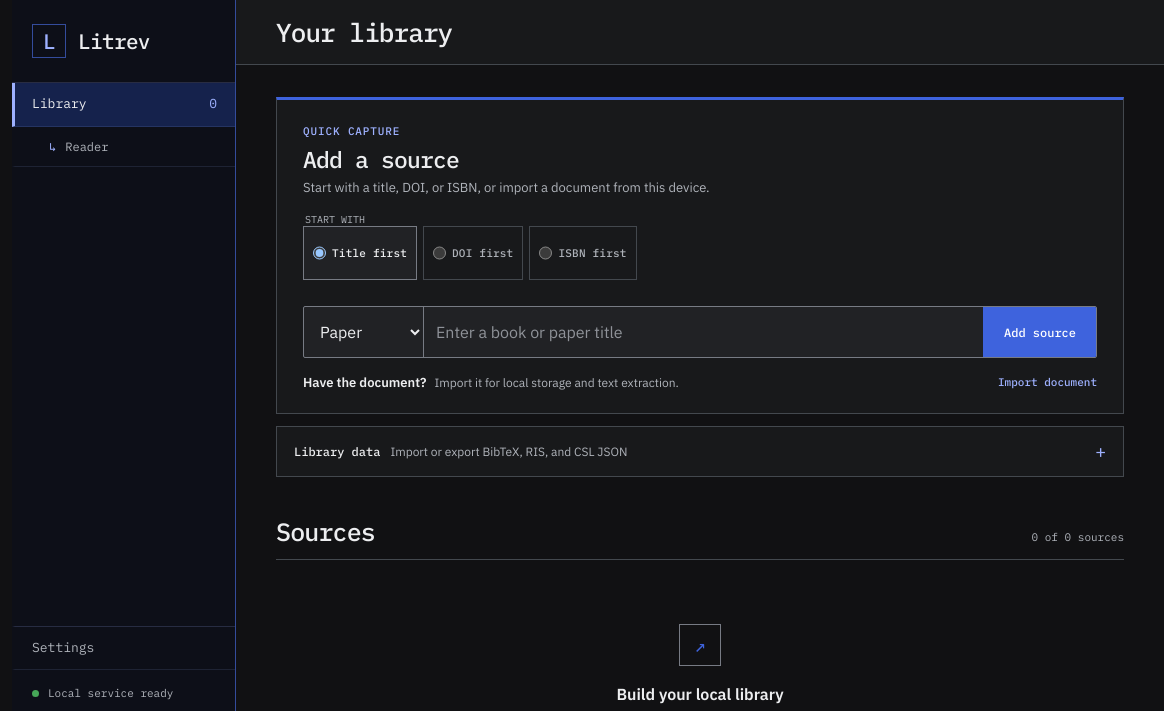
Test: keeps the title and explains when a source cannot be saved
Expected: the text "Local service ready" is shown, [32,686,173,700]
Type "A useful paper" into the field labelled "title" at (704, 332), box [424,307,983,357]
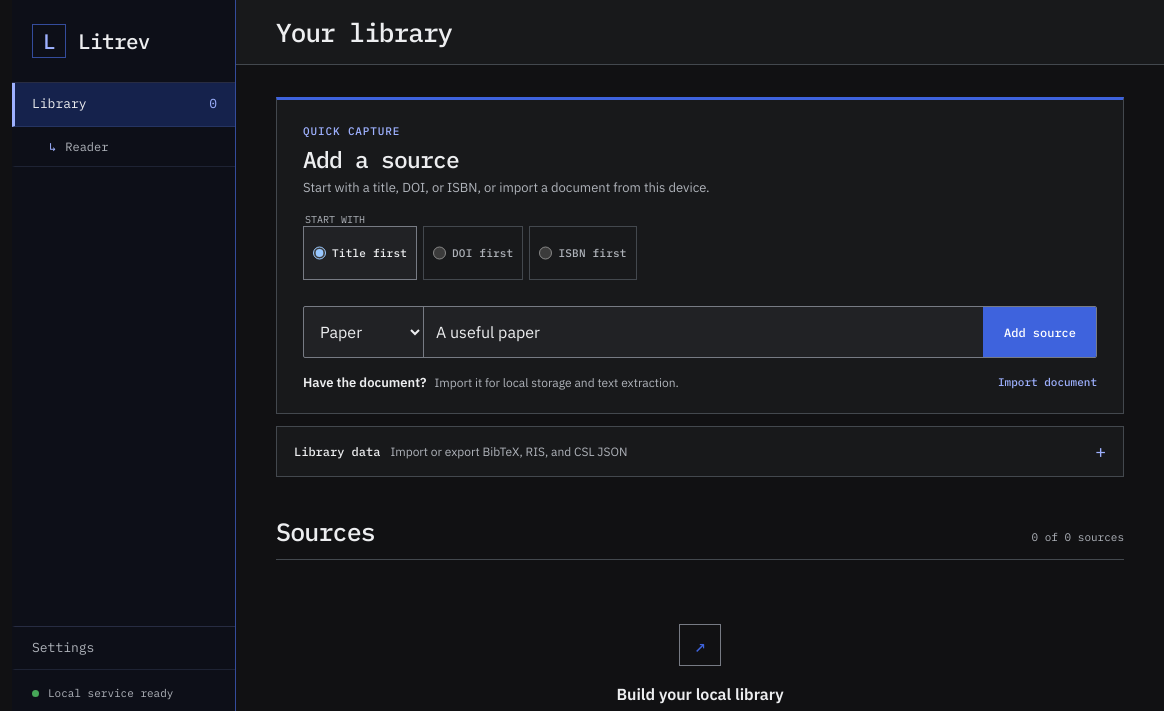
Click the button "Add source" at (1040, 332), box [983,307,1096,357]
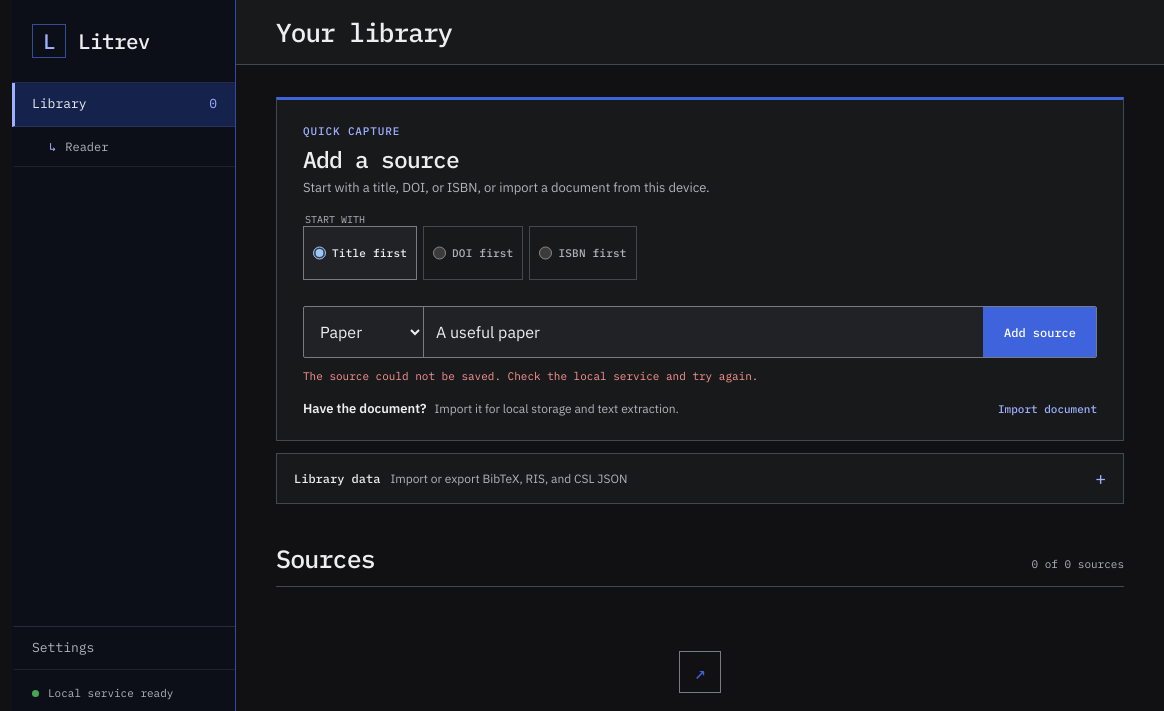
Now the message "The source could not be saved. Check the local service and try again." is shown, box [303,369,758,383]
